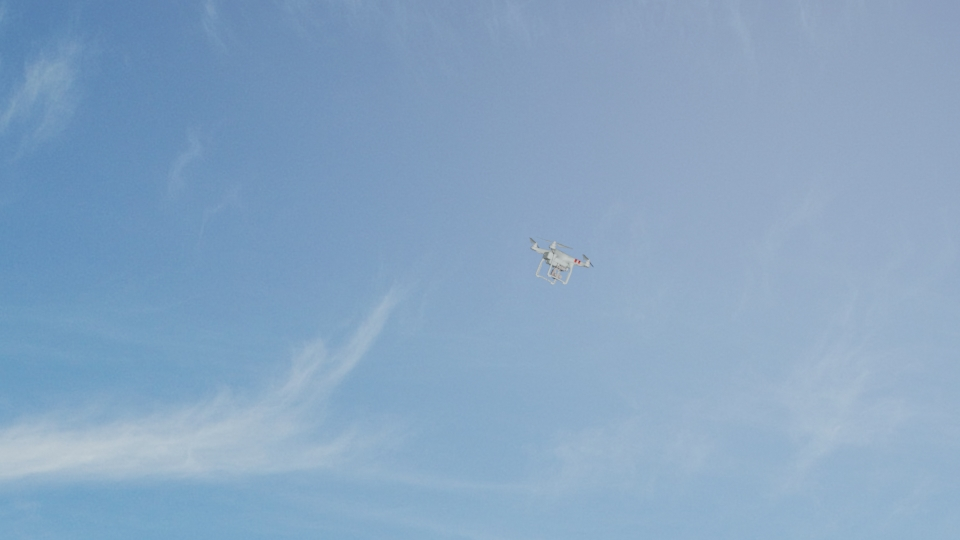drone: (526, 232, 598, 286)
